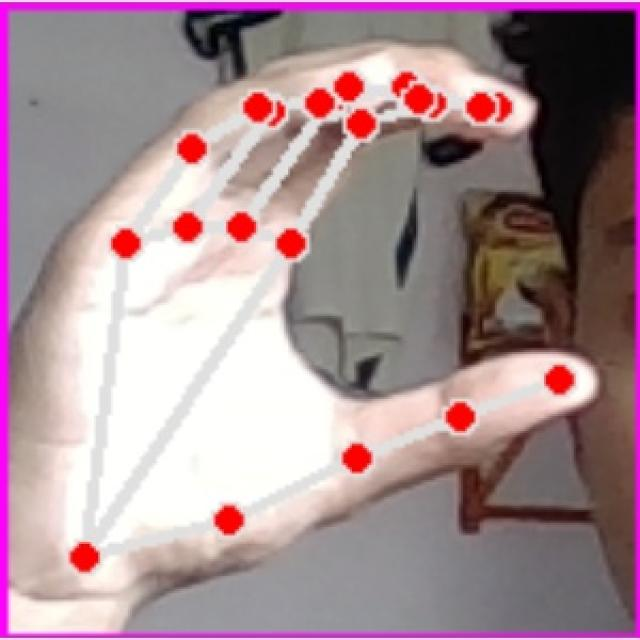C: (21, 28, 613, 610)
